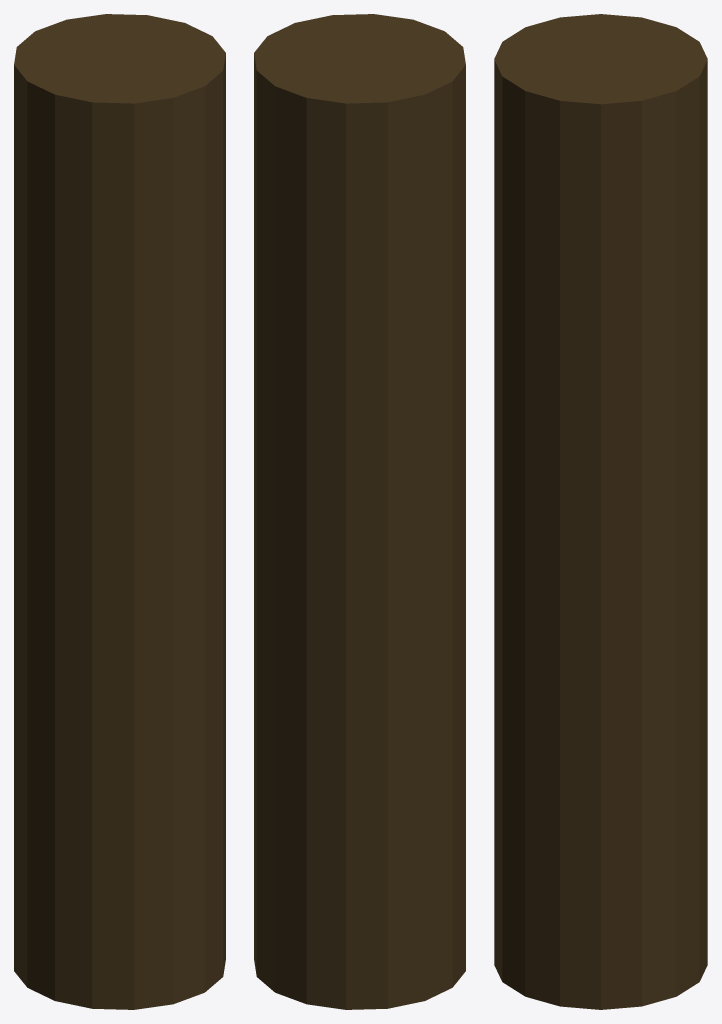
Rendered from Pfosten.fbx.
The picture shows the model from 3 angles, left to right: view 1: azimuth 30°, elevation 25°; view 2: azimuth 150°, elevation 25°; view 3: azimuth 270°, elevation 25°; orthographic projection.
Visible parts, largest first — view 1: Pfosten; view 2: Pfosten; view 3: Pfosten.
Boxes of the visible parts, left/top/right/bottom form: Pfosten: left=14, top=14, right=225, bottom=1009; Pfosten: left=254, top=14, right=465, bottom=1009; Pfosten: left=494, top=14, right=707, bottom=1009.
Size of the model in its own units: 56.47 by 264 by 56.47.
